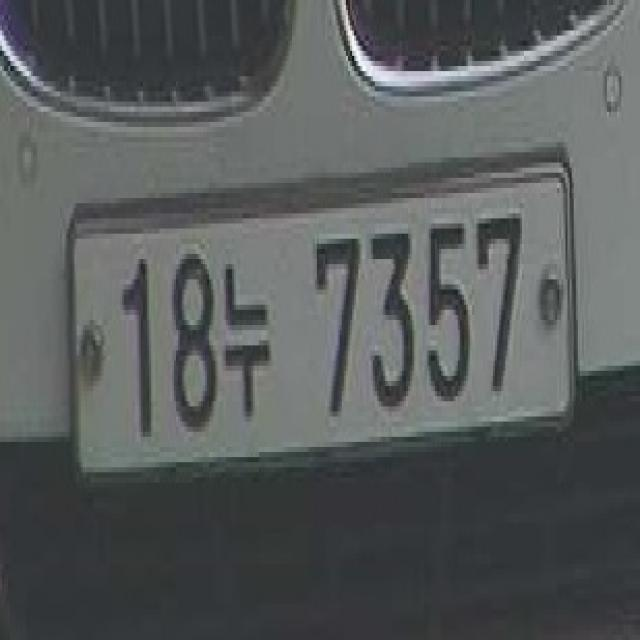1: (114, 234, 161, 462)
3: (367, 208, 416, 427)
5: (420, 208, 472, 417)
7: (308, 213, 368, 437), (472, 188, 530, 406)
8: (166, 234, 220, 452)
license_plate: (62, 137, 580, 493)
nu: (218, 254, 272, 432)
